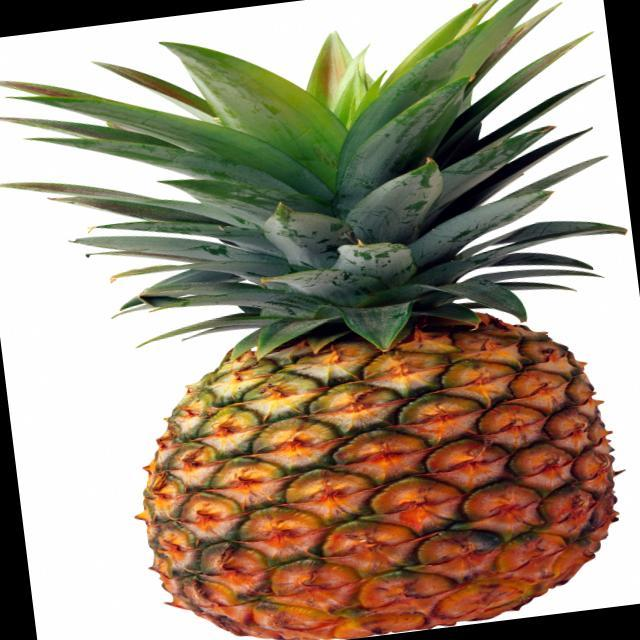PINEAPLE: (80, 0, 618, 640)
